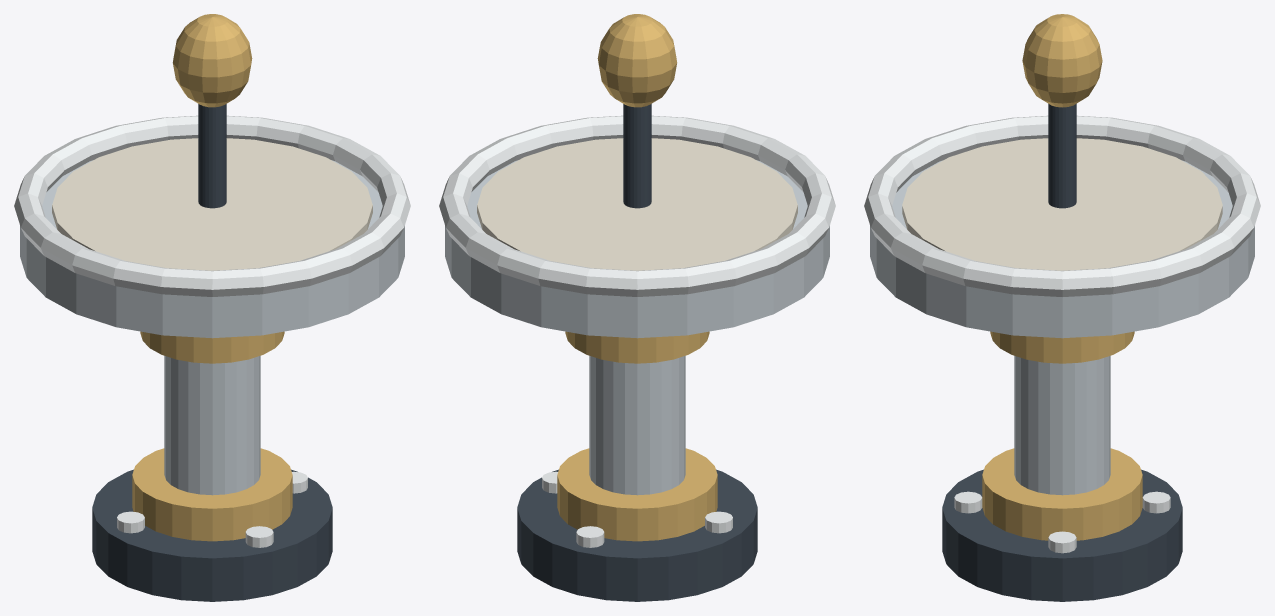
Rendered from high_gain_antenna.glb.
The picture shows the model from 3 angles, left to right: view 1: azimuth 30°, elevation 25°; view 2: azimuth 150°, elevation 25°; view 3: azimuth 270°, elevation 25°; orthographic projection.
Visible parts, largest first — view 1: Dish_Face, Dish_Rim, Mount_Flange, Dish_Back, Pedestal, Mount_Collar, Feed_Horn, Azimuth_Joint, Feed_Support, Mount_Bolt_003, Mount_Bolt_002; view 2: Dish_Face, Dish_Rim, Mount_Flange, Dish_Back, Pedestal, Mount_Collar, Feed_Horn, Azimuth_Joint, Feed_Support, Mount_Bolt_001, Mount_Bolt_002; view 3: Dish_Face, Dish_Rim, Dish_Back, Mount_Flange, Pedestal, Mount_Collar, Feed_Horn, Azimuth_Joint, Feed_Support, Mount_Bolt, Mount_Bolt_001, Mount_Bolt_003.
Boxes of the visible parts, left/top/right/bottom form: Dish_Face: left=52, top=138, right=372, bottom=270; Dish_Rim: left=14, top=115, right=410, bottom=296; Mount_Flange: left=92, top=469, right=332, bottom=601; Dish_Back: left=20, top=160, right=404, bottom=338; Pedestal: left=164, top=356, right=260, bottom=495; Mount_Collar: left=132, top=448, right=292, bottom=541; Feed_Horn: left=172, top=14, right=252, bottom=107; Azimuth_Joint: left=140, top=331, right=284, bottom=363; Feed_Support: left=198, top=104, right=226, bottom=208; Mount_Bolt_003: left=245, top=526, right=273, bottom=547; Mount_Bolt_002: left=117, top=511, right=144, bottom=533; Dish_Face: left=477, top=138, right=797, bottom=270; Dish_Rim: left=439, top=115, right=835, bottom=296; Mount_Flange: left=517, top=469, right=757, bottom=601; Dish_Back: left=445, top=160, right=829, bottom=338; Pedestal: left=589, top=356, right=685, bottom=495; Mount_Collar: left=557, top=448, right=717, bottom=541; Feed_Horn: left=597, top=14, right=677, bottom=107; Azimuth_Joint: left=565, top=331, right=709, bottom=363; Feed_Support: left=623, top=104, right=651, bottom=208; Mount_Bolt_001: left=576, top=526, right=604, bottom=547; Mount_Bolt_002: left=705, top=511, right=732, bottom=533; Dish_Face: left=902, top=138, right=1222, bottom=270; Dish_Rim: left=864, top=115, right=1260, bottom=296; Dish_Back: left=870, top=160, right=1254, bottom=338; Mount_Flange: left=942, top=469, right=1182, bottom=601; Pedestal: left=1014, top=356, right=1110, bottom=495; Mount_Collar: left=982, top=448, right=1142, bottom=540; Feed_Horn: left=1022, top=14, right=1102, bottom=107; Azimuth_Joint: left=990, top=331, right=1134, bottom=363; Feed_Support: left=1048, top=104, right=1076, bottom=208; Mount_Bolt: left=1048, top=531, right=1076, bottom=553; Mount_Bolt_001: left=1142, top=491, right=1170, bottom=513; Mount_Bolt_003: left=954, top=491, right=982, bottom=513.
Size of the model in its own units: 0.99 by 1.47 by 0.99.
